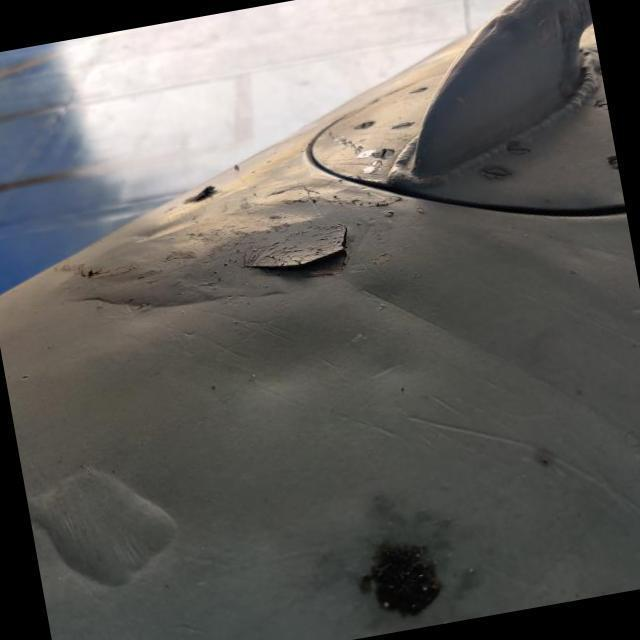dent: (205, 304, 368, 410)
